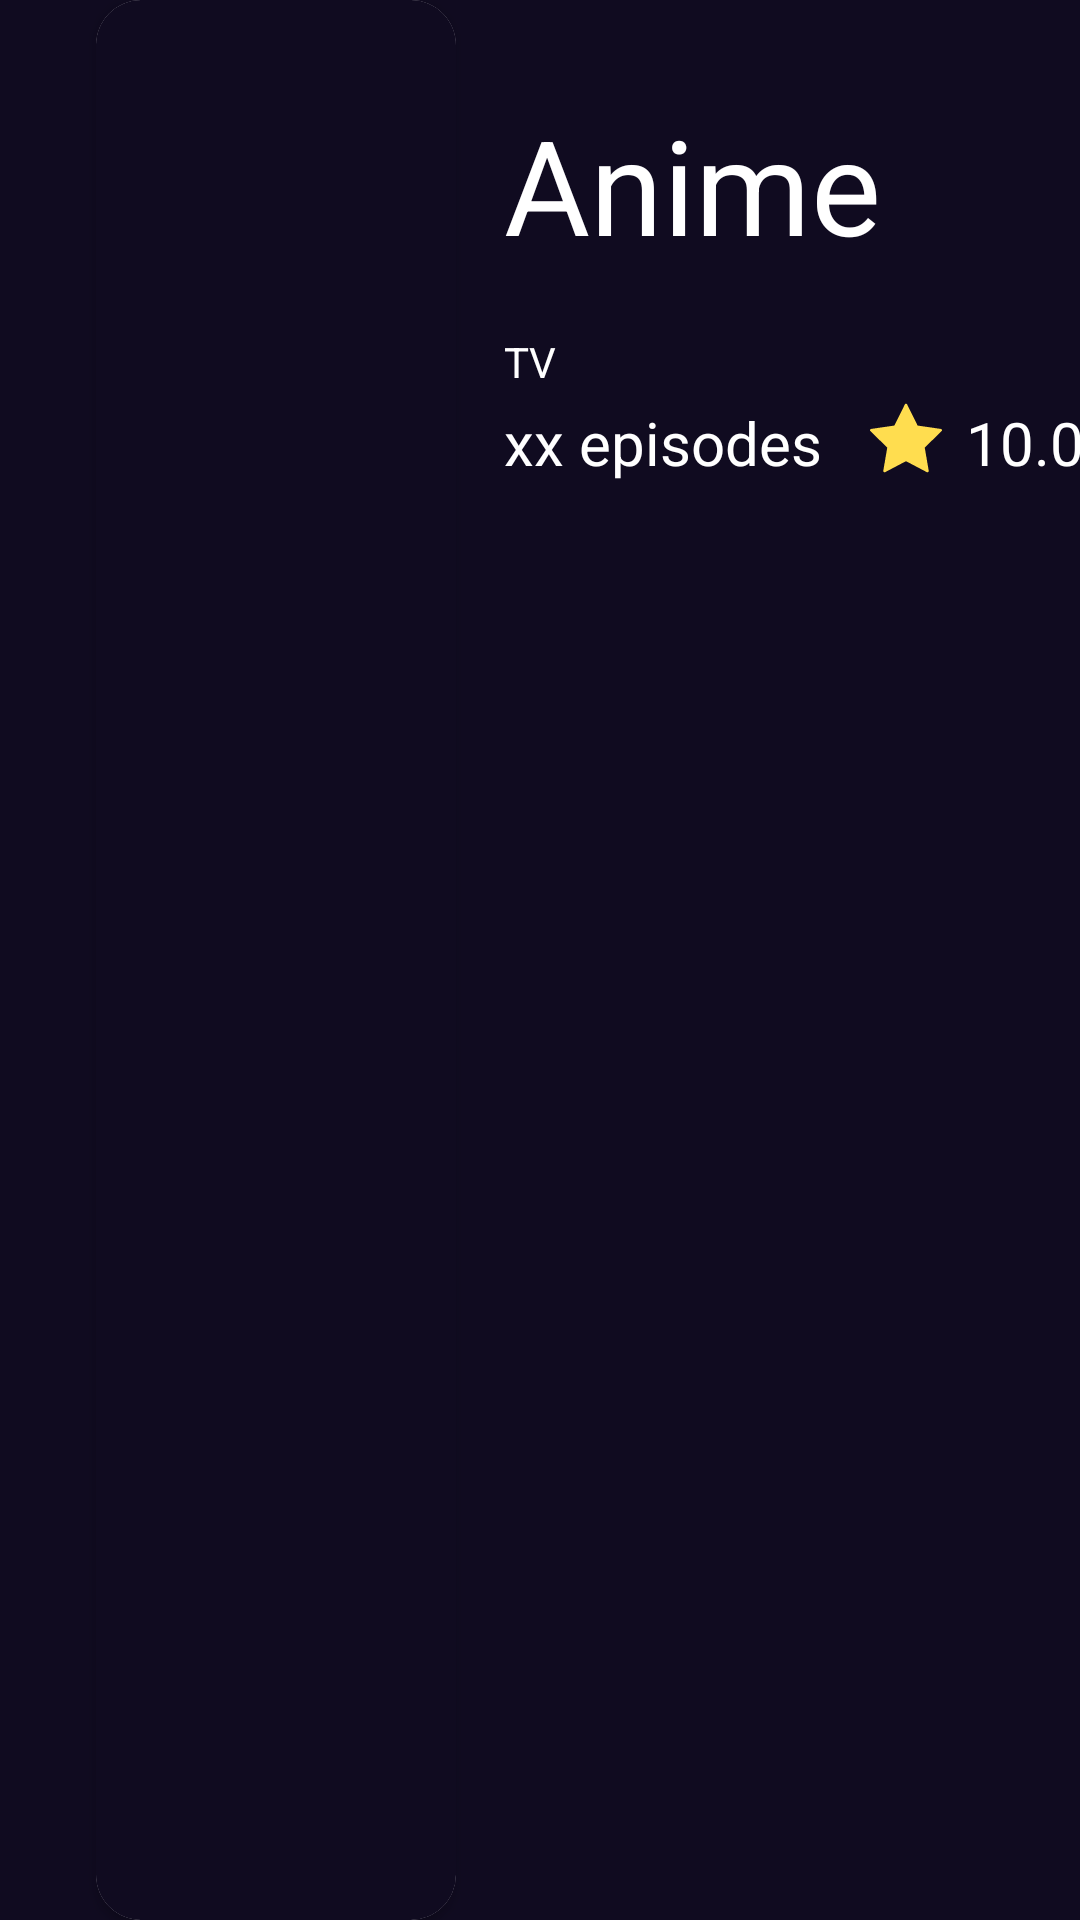

Where icons sit on this 1080×1920 app screen, as (x1, y1, x2, y2):
star: (870, 403, 942, 473)
